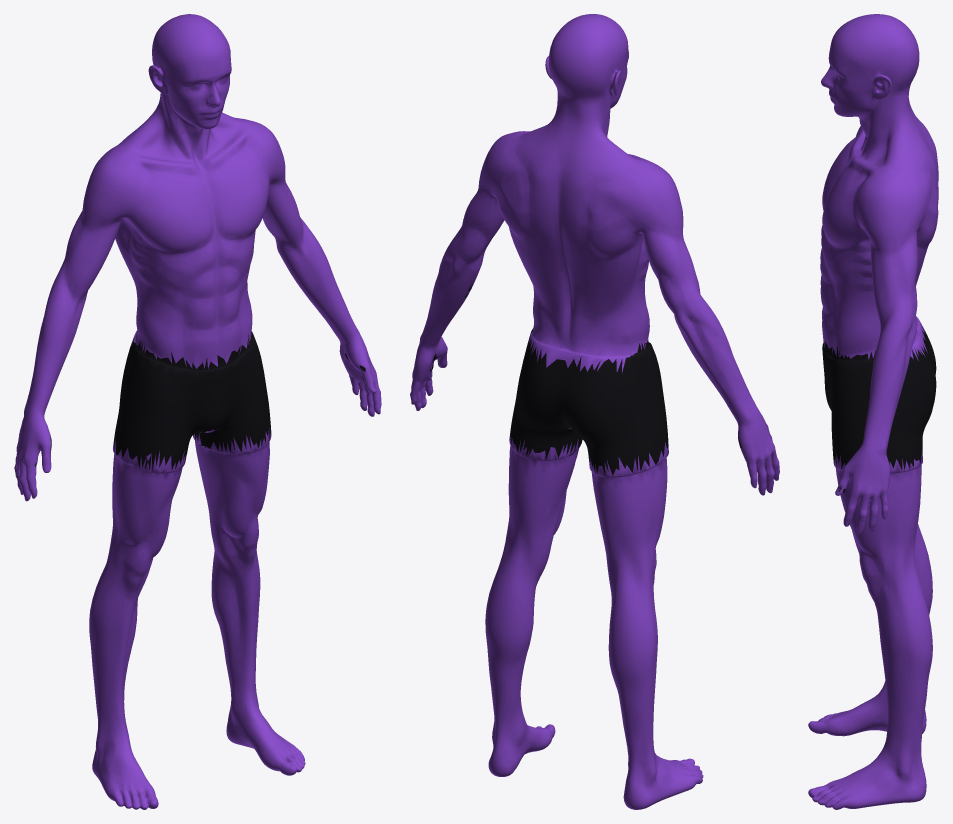
The model's file is zen_m_b02_d3_40000.glb.
3 views of the same model, side by side, from view 1: azimuth 30°, elevation 25°; view 2: azimuth 150°, elevation 25°; view 3: azimuth 270°, elevation 25° (orthographic).
Visible parts, largest first — view 1: mesh_node; view 2: mesh_node; view 3: mesh_node.
Boxes of the visible parts, x1,y1,x2,y2 form: mesh_node: (14, 14, 381, 809); mesh_node: (410, 14, 779, 809); mesh_node: (808, 14, 938, 809).
Bounding box in the file's own units: 0.8664 × 1.75 × 0.2759.
